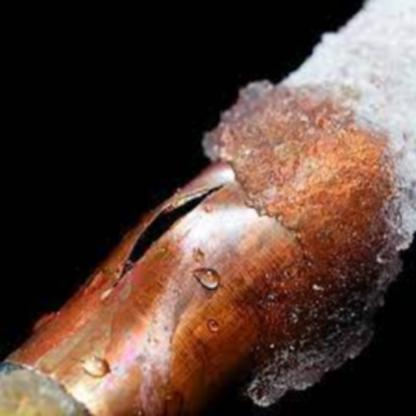burst: (100, 169, 234, 284)
